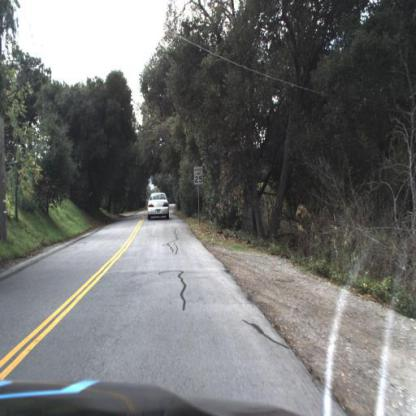car: (144, 188, 176, 227)
